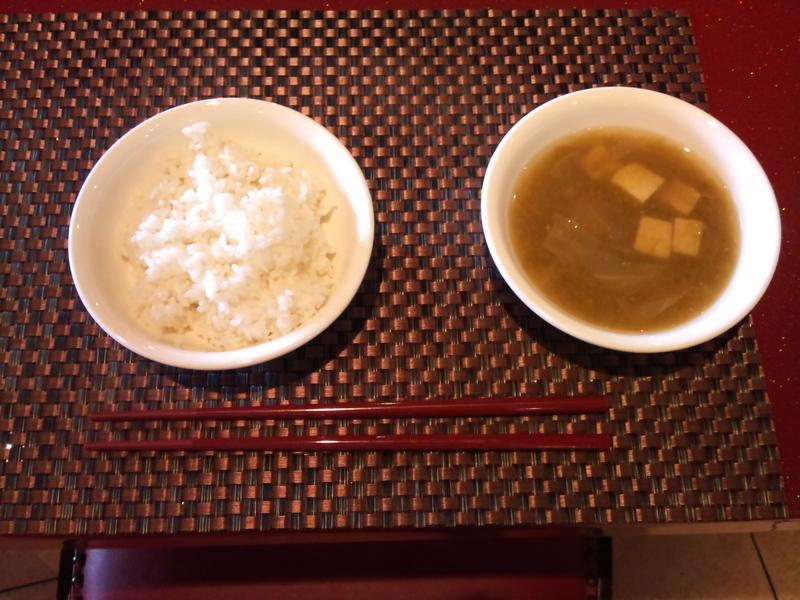rice: (126, 125, 339, 350)
